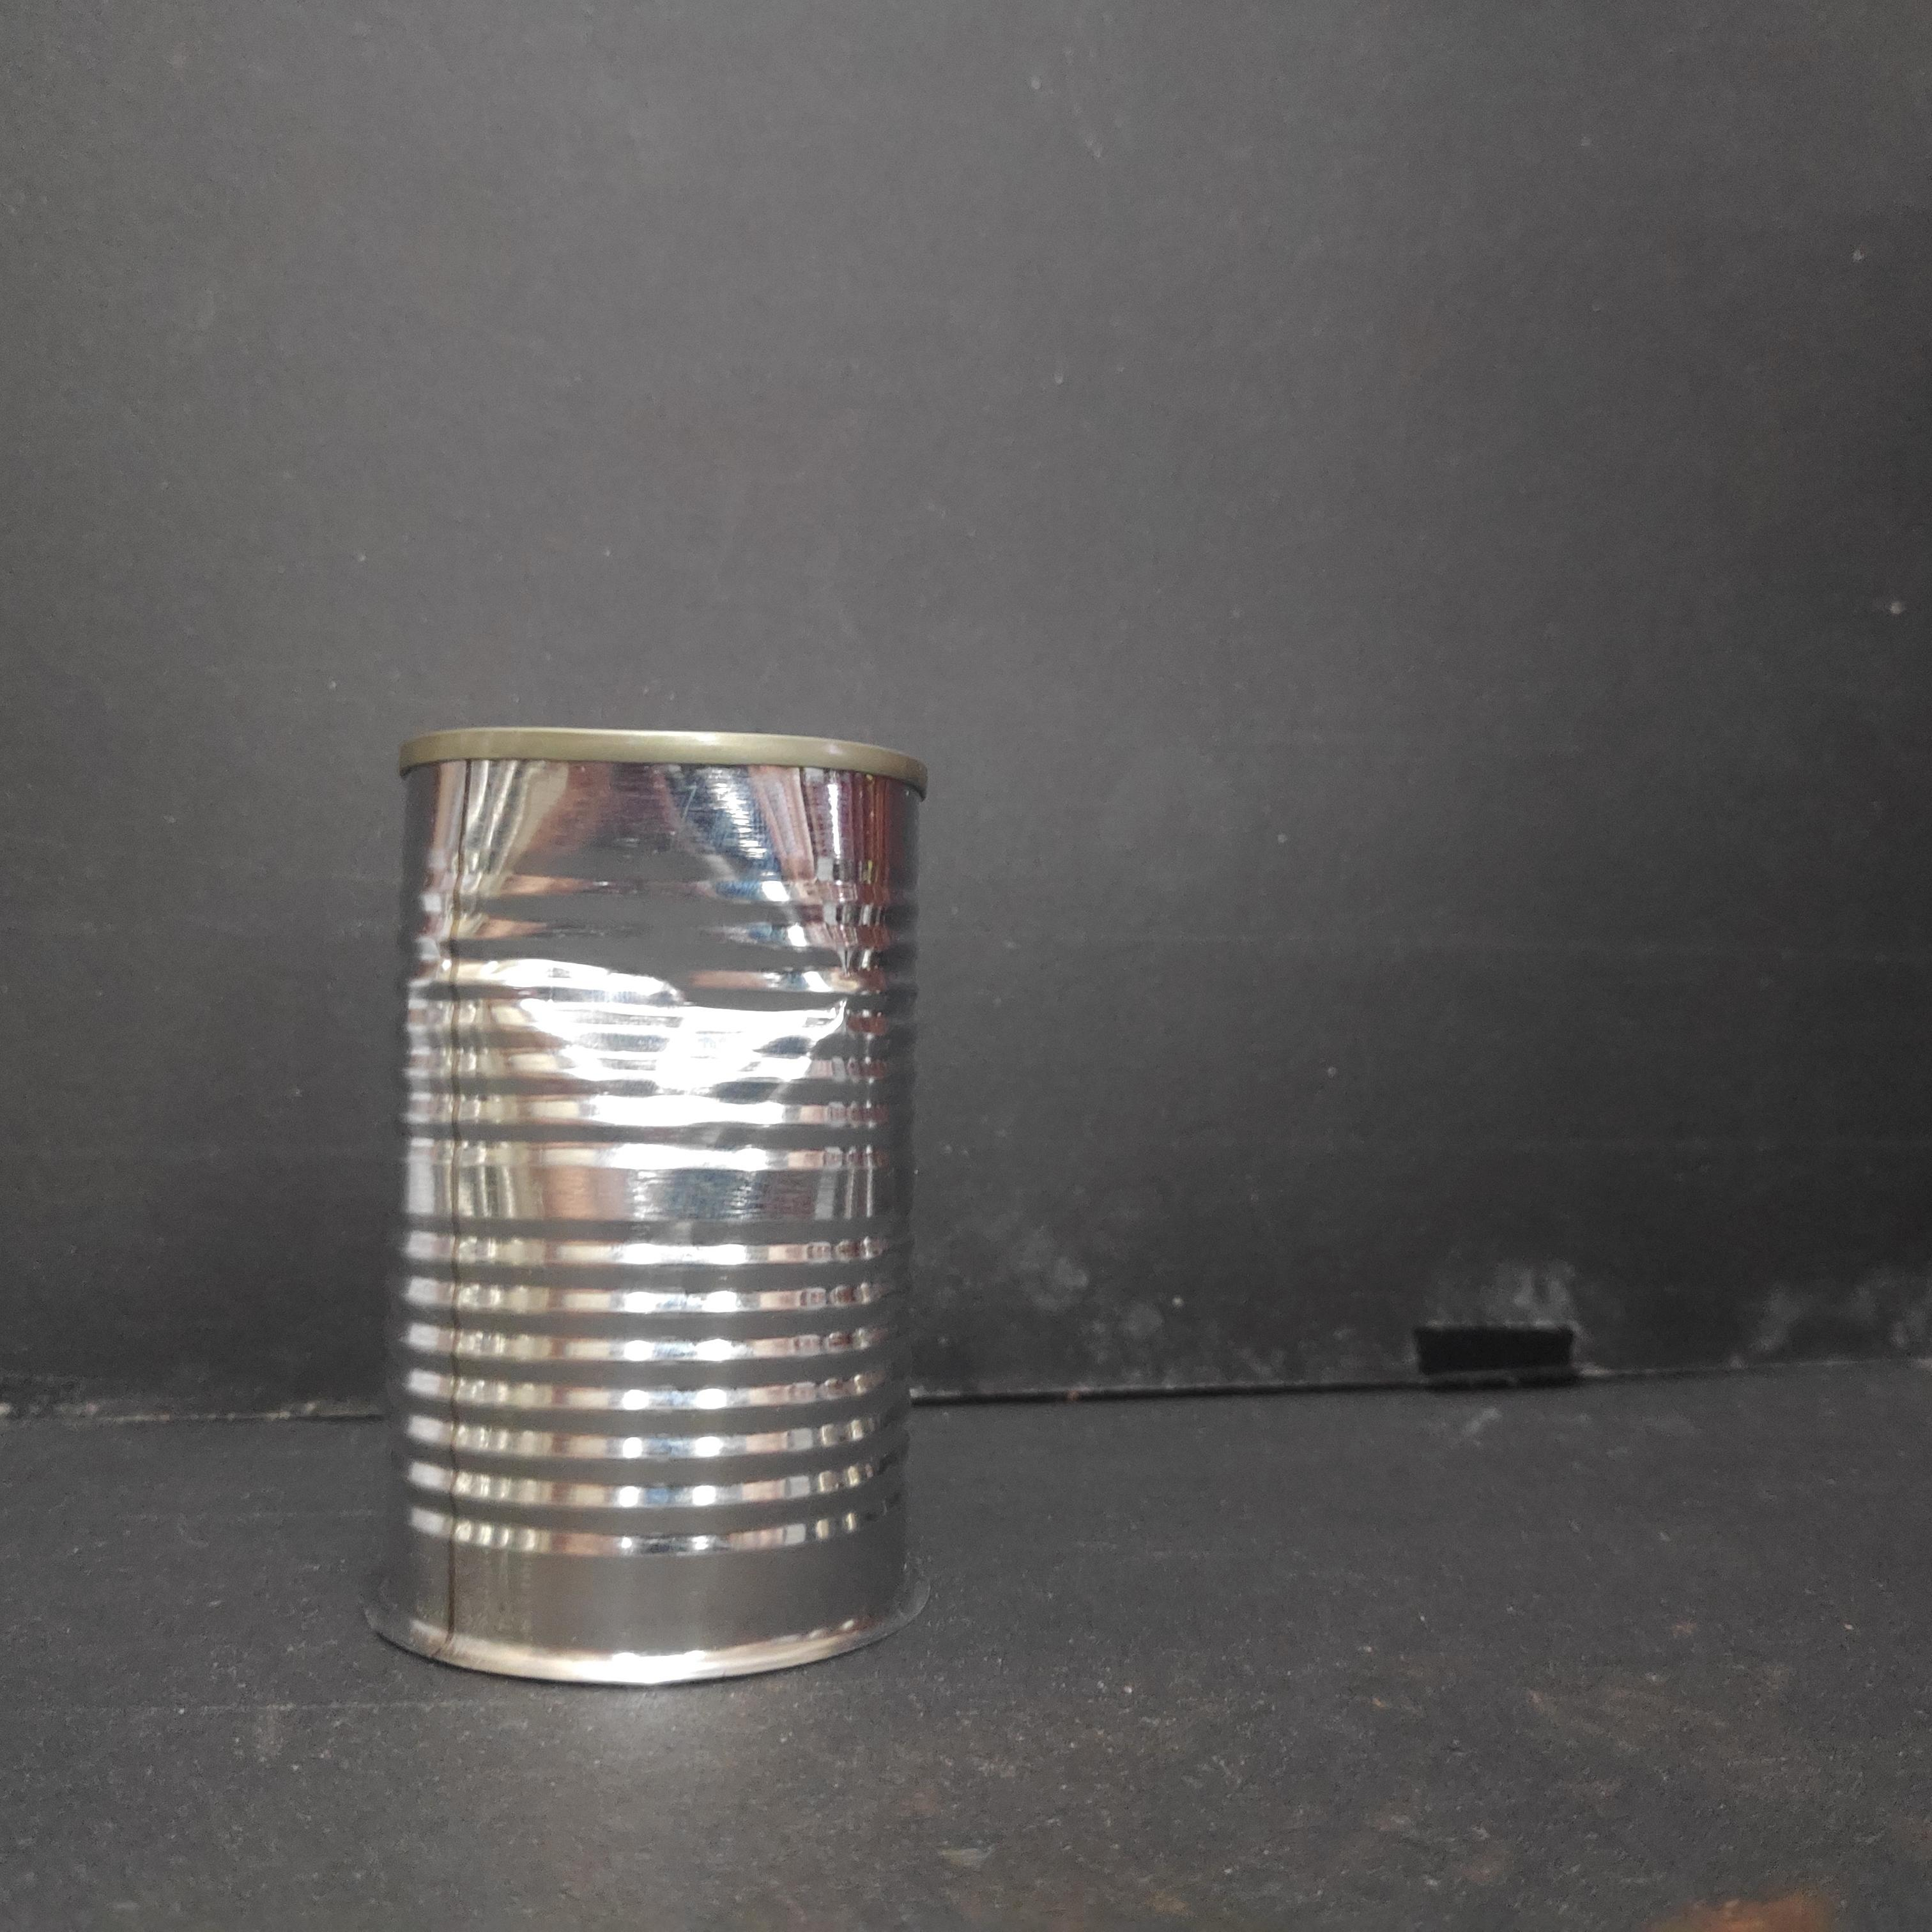Minor Defect: (372, 713, 934, 1700)
